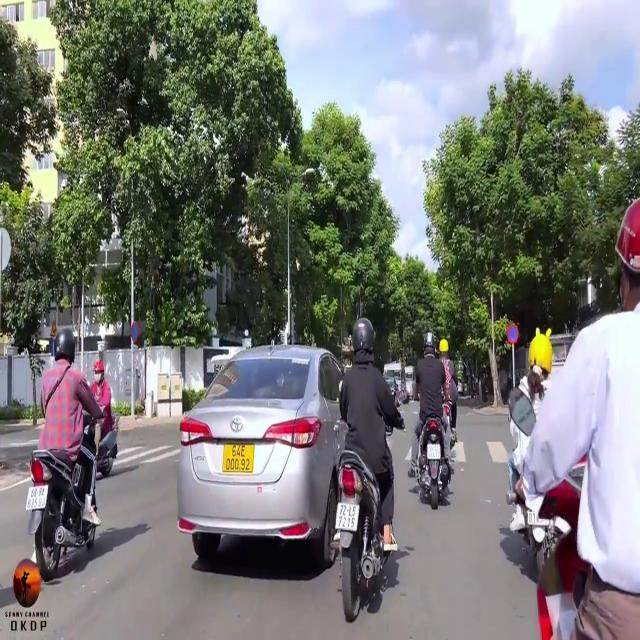bien_trang: (335, 500, 360, 536)
bien_vang: (220, 436, 256, 475)
